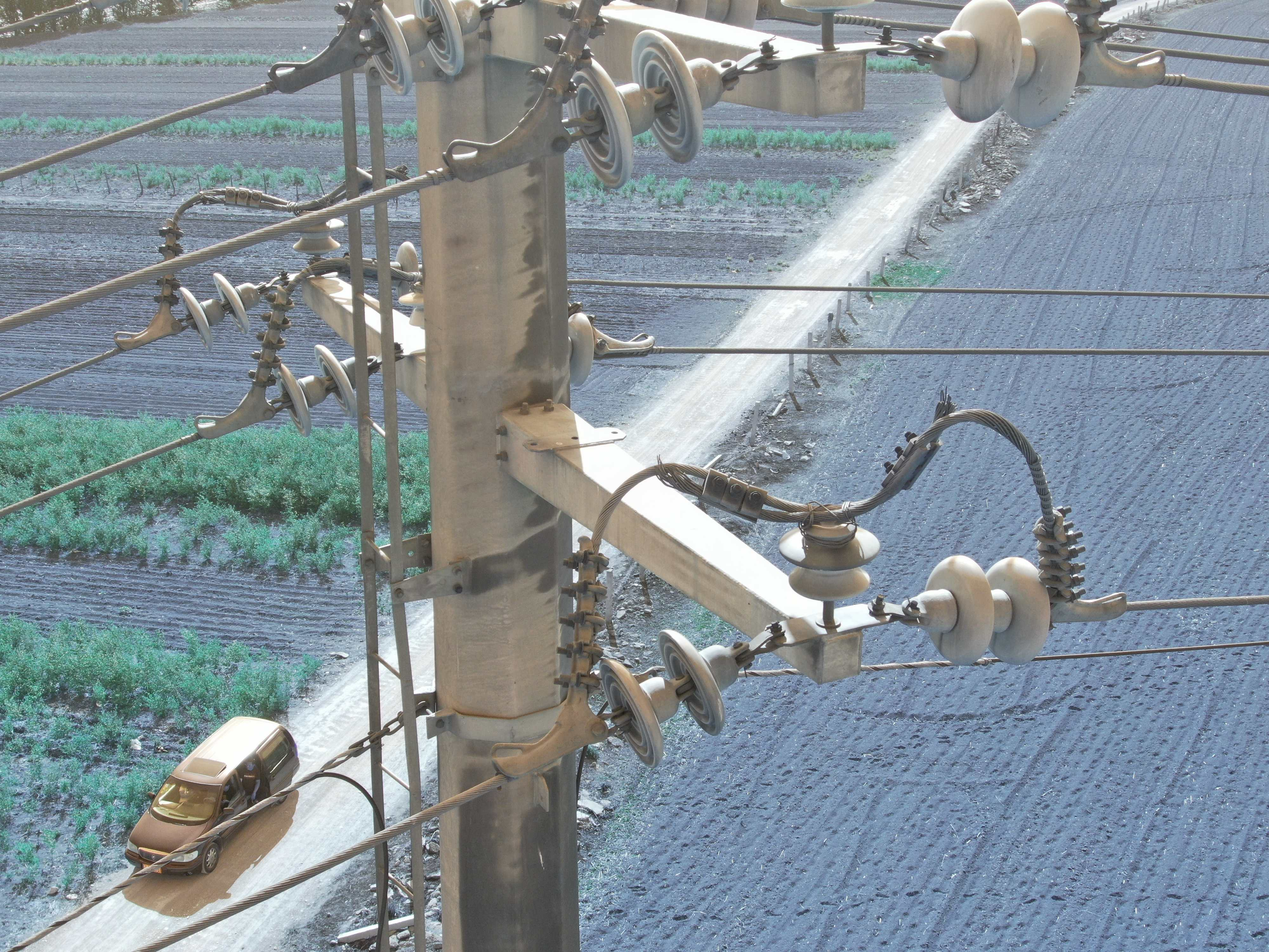severe_soiling_no_discharge_whole: (778, 501, 880, 603)
